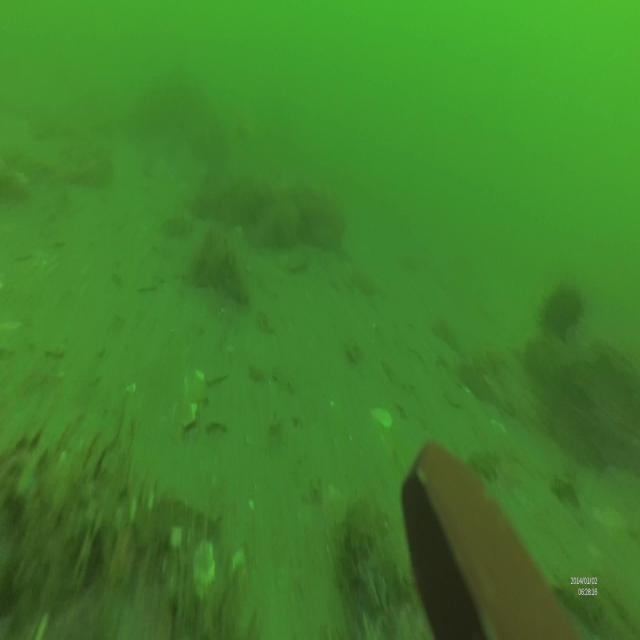echinus: (537, 275, 586, 341)
